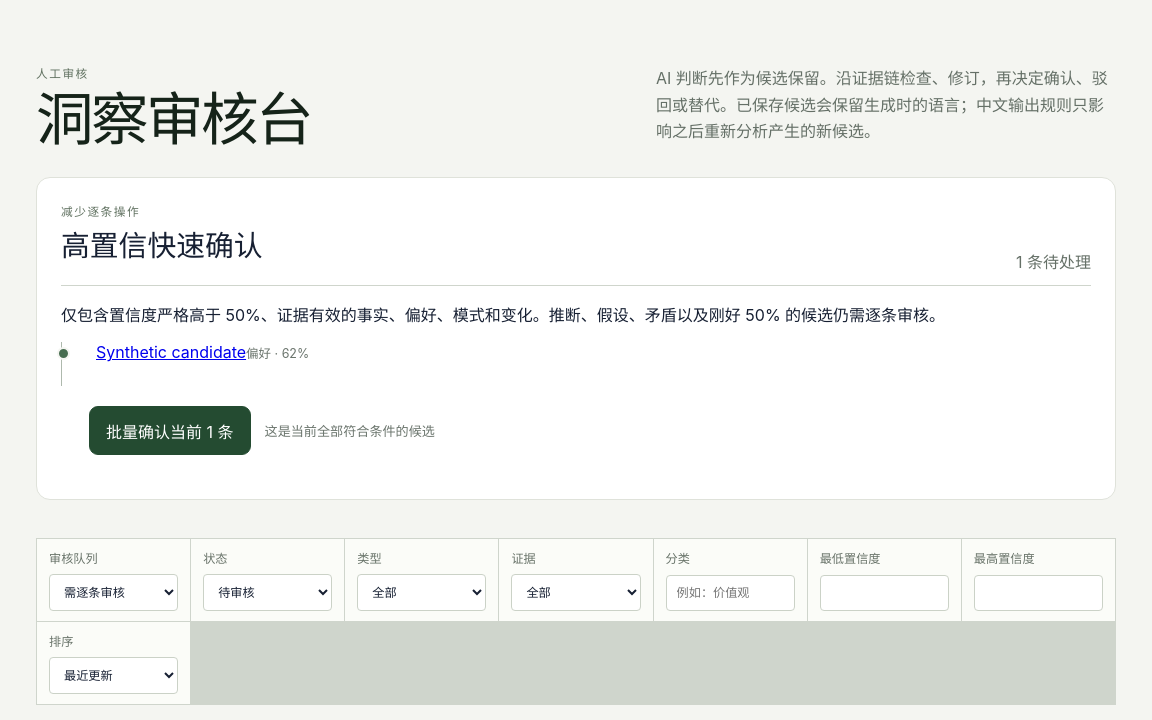
InsightsPage › confirms one eligible page in a single explicit batch action
The width and height of the screenshot is (1152, 720).
Click the button "批量确认当前 1 条": (170, 431) [89,406,250,455]
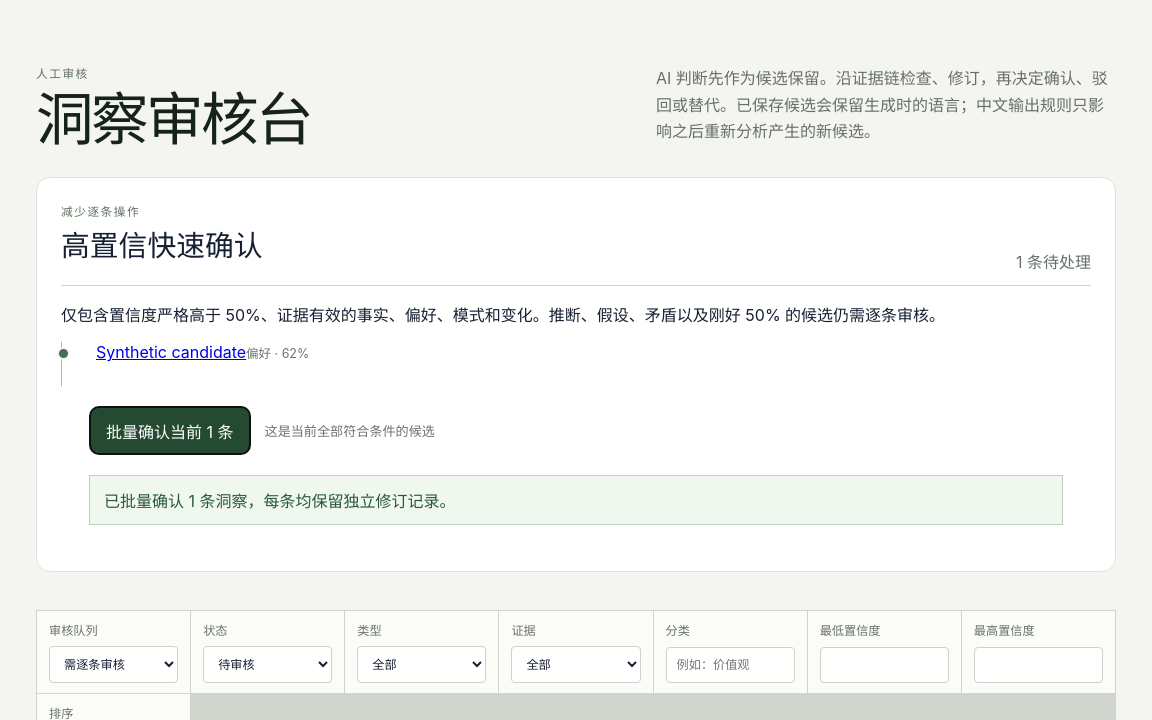
Now the message shows "已批量确认 1 条洞察", box [89,475,1063,525]
